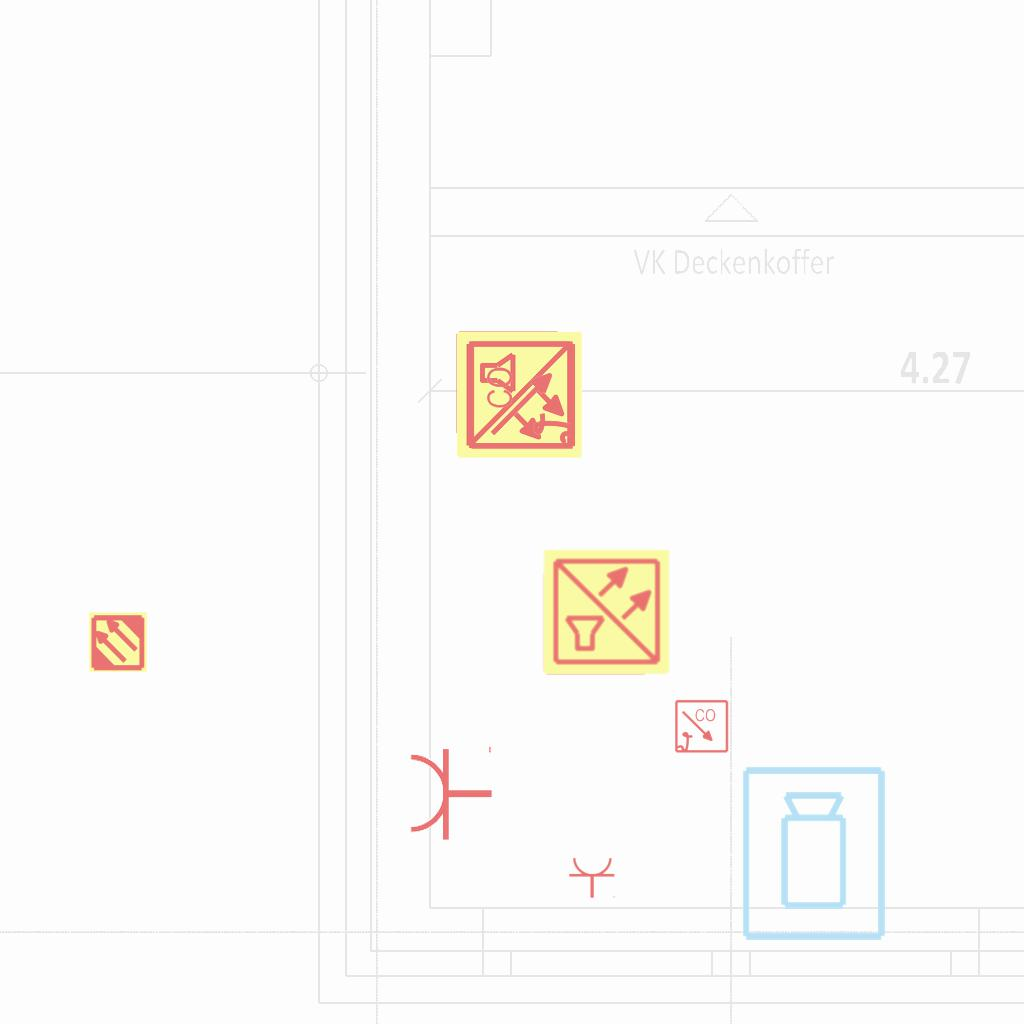ASR_Ansaugrauchmelder: (87, 611, 149, 673)
KFO_Kamera_mit_Festobjektiv: (738, 763, 892, 945)
OKW_Multisensormelder_(Kombination_optischer_Rauch-Kahlenmonoxid_Waerme-Melder): (453, 329, 585, 461), (541, 546, 673, 678)
ROA_Rauchmelder_optisch_mit_Signalgeber_(Sockelsirene): (467, 338, 580, 451), (674, 699, 730, 755)
Schukosteckdose_einfach: (407, 742, 494, 842), (568, 856, 618, 899)
